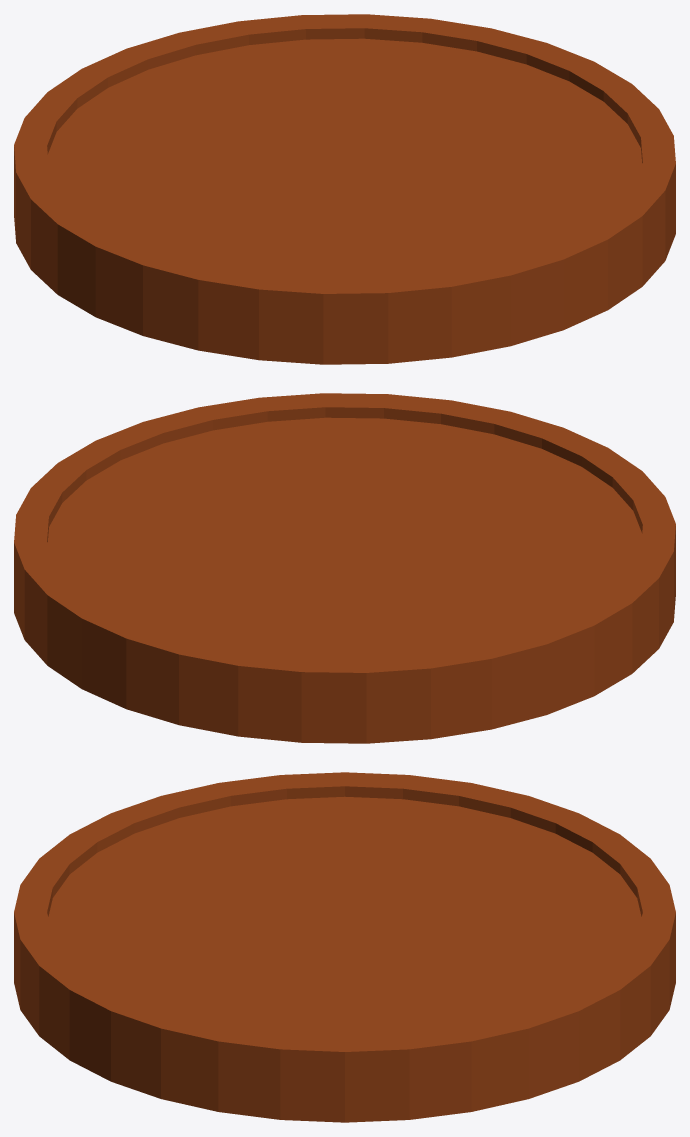
The model's file is coin.fbx.
3 views of the same model, one above another, from view 1: azimuth 30°, elevation 25°; view 2: azimuth 150°, elevation 25°; view 3: azimuth 270°, elevation 25° (orthographic).
Visible parts, largest first — view 1: Cylinder; view 2: Cylinder; view 3: Cylinder.
Boxes of the visible parts, bbox=[...] form: Cylinder: bbox=[14, 14, 675, 364]; Cylinder: bbox=[14, 393, 675, 743]; Cylinder: bbox=[14, 772, 675, 1122].
Bounding box in the file's own units: 170 × 20 × 170.
